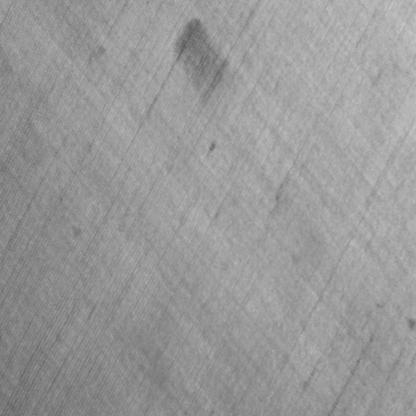oil spot: (172, 14, 230, 105)
